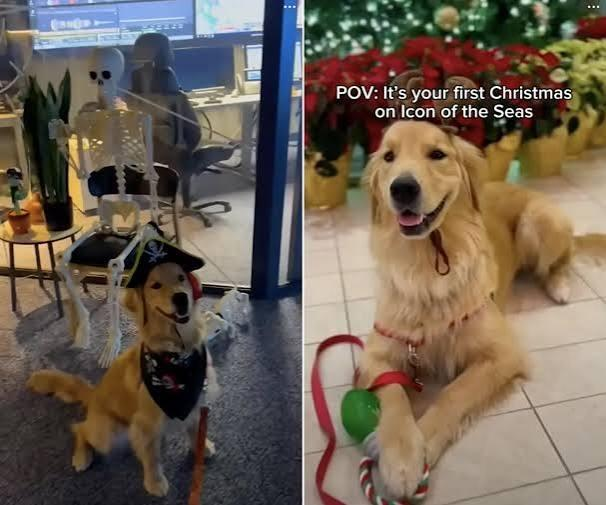adult_dog: (349, 120, 605, 503), (27, 262, 224, 498)
